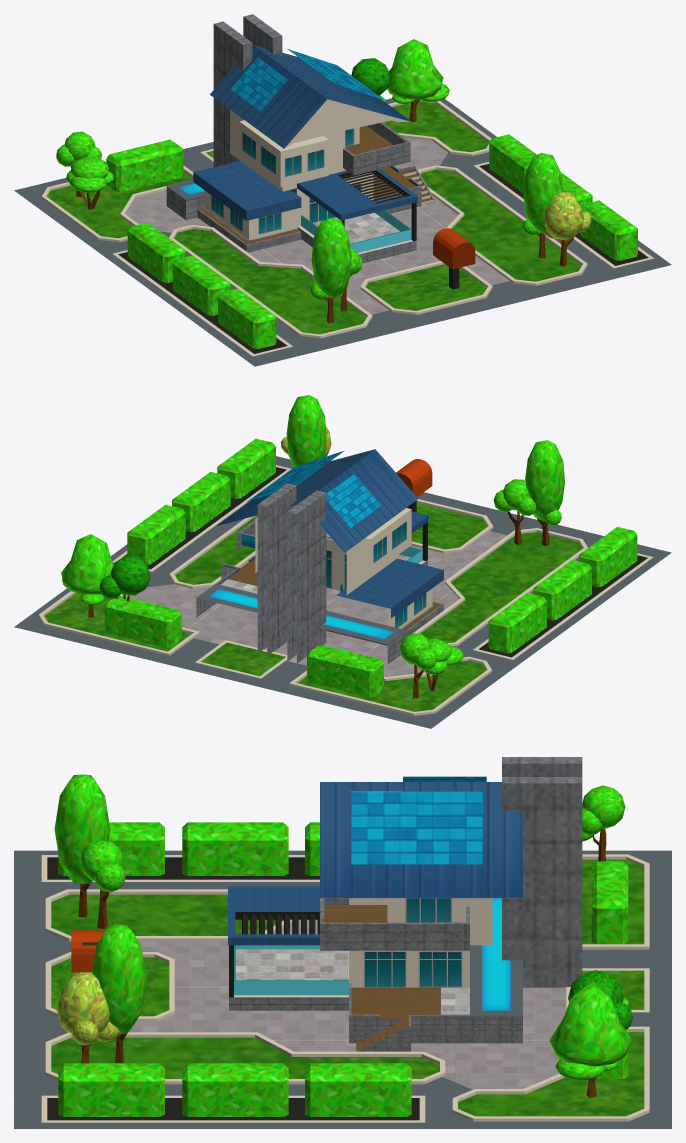
Rendered from Residential _lvl1.fbx.
The picture shows the model from 3 angles, top to bottom: view 1: azimuth 30°, elevation 25°; view 2: azimuth 150°, elevation 25°; view 3: azimuth 270°, elevation 25°; orthographic projection. The views are drawn at different scales.
Visible parts, largest first — view 1: residential 1; view 2: residential 1; view 3: residential 1.
Boxes of the visible parts, x1=… form: residential 1: x1=14, y1=14, x2=671, y2=366; residential 1: x1=14, y1=395, x2=671, y2=728; residential 1: x1=14, y1=757, x2=671, y2=1128.
Bounding box in the file's own units: 100 × 34.42 × 100.
